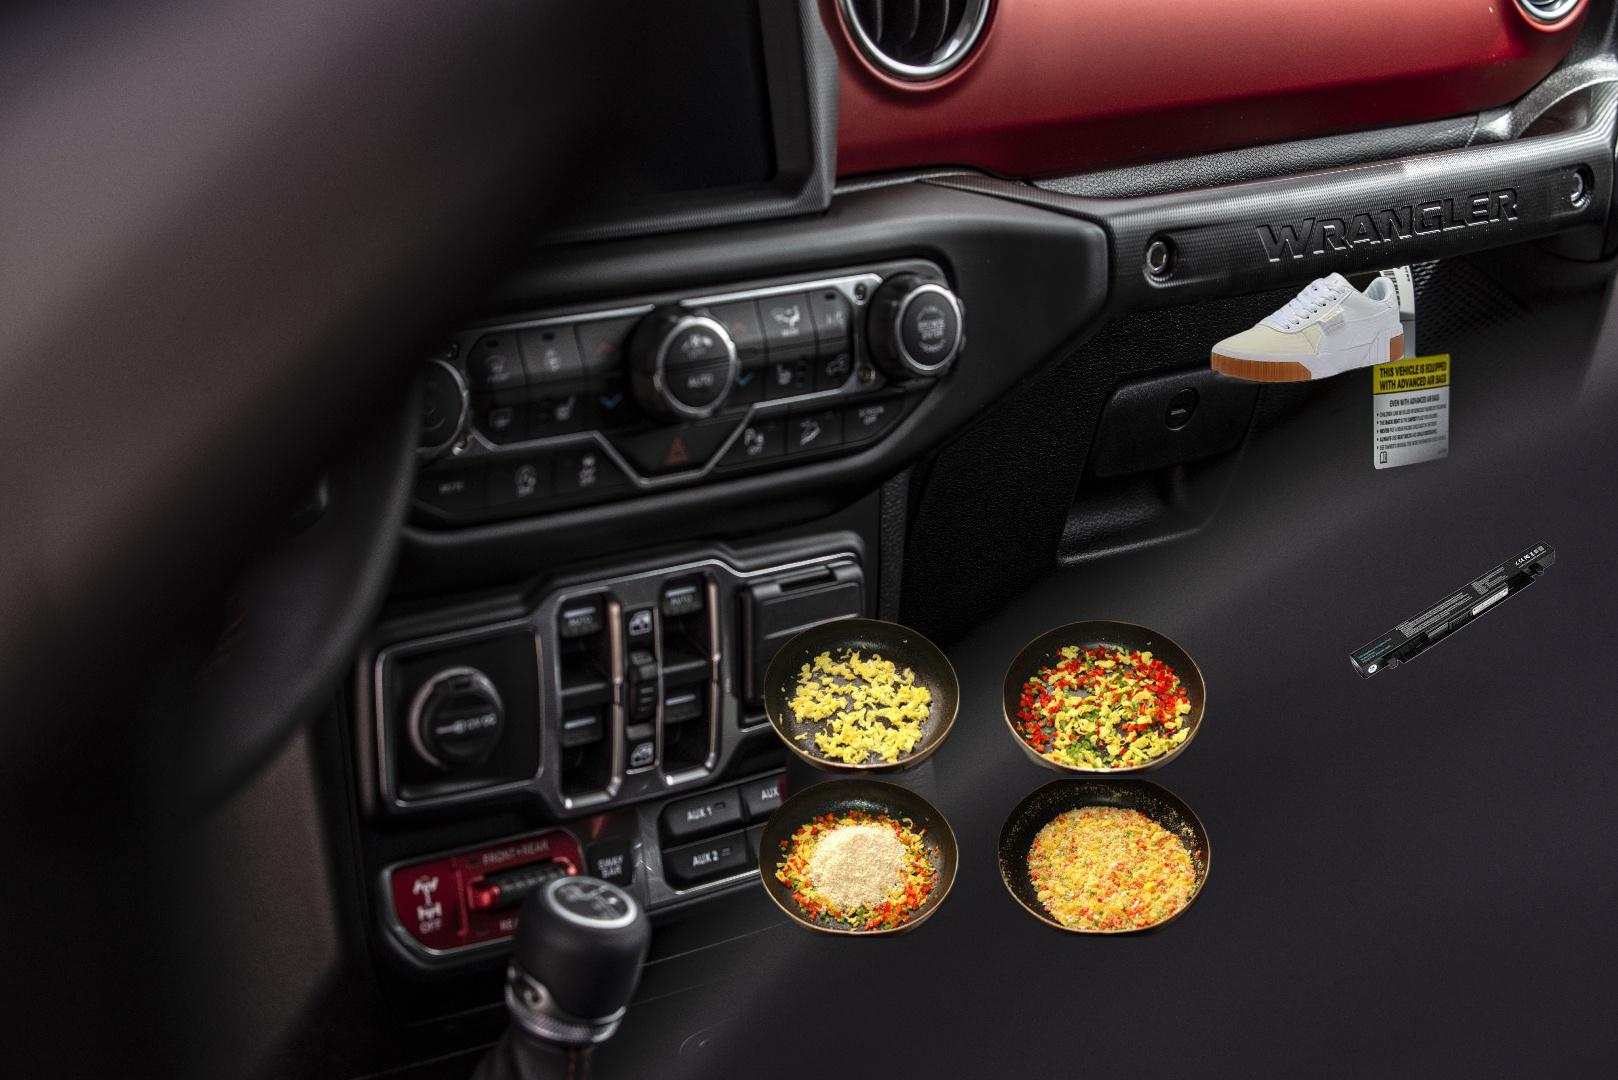battery: (1347, 538, 1558, 682)
biological: (755, 615, 1214, 941)
shoes: (1208, 269, 1407, 387)
